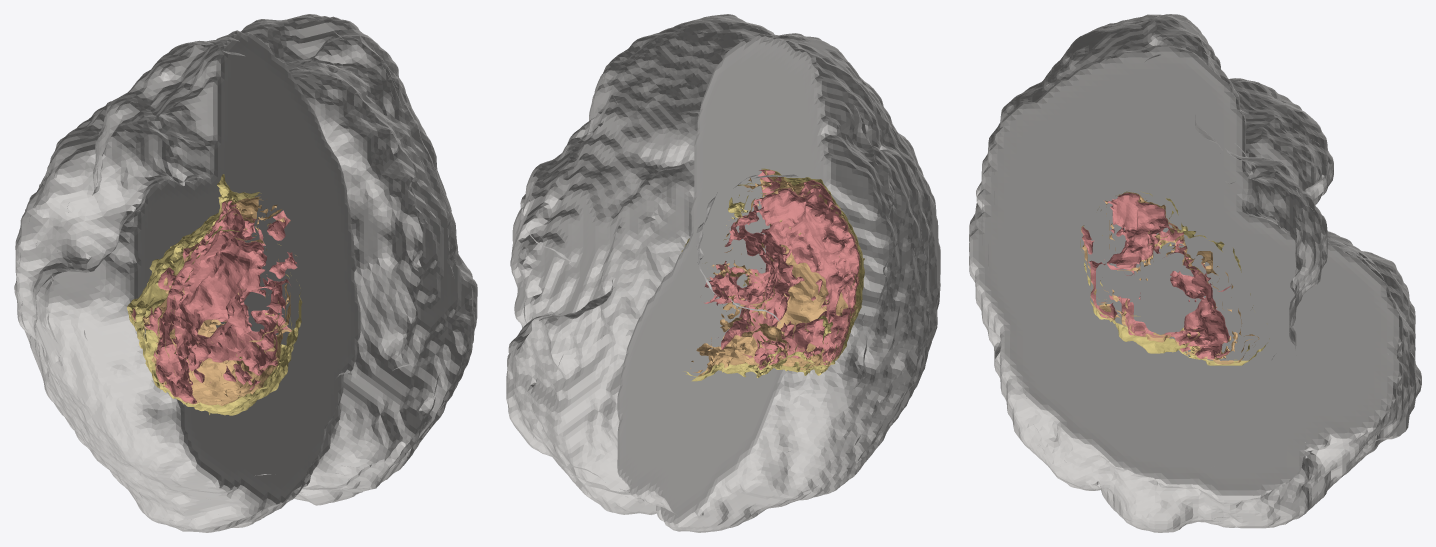
3 renders of one model, left to right at view 1: azimuth 30°, elevation 25°; view 2: azimuth 150°, elevation 25°; view 3: azimuth 270°, elevation 25°, orthographic. The views are drawn at different scales.
Visible parts, largest first — view 1: brain_left, brain_right, enhancing, edema, core; view 2: brain_left, brain_right, enhancing, core, edema; view 3: brain_right, brain_left, enhancing, core, edema.
Boxes of the visible parts, box(x1,y1,x2,y2) form: brain_left: box(14, 30, 360, 532); brain_right: box(240, 14, 477, 505); enhancing: box(131, 201, 297, 403); edema: box(127, 174, 302, 415); core: box(131, 196, 296, 406); brain_left: box(617, 33, 940, 532); brain_right: box(506, 14, 778, 521); enhancing: box(704, 170, 859, 369); core: box(690, 169, 860, 376); edema: box(681, 168, 864, 381); brain_right: box(969, 45, 1421, 532); brain_left: box(969, 14, 1415, 343); enhancing: box(1081, 193, 1230, 359); core: box(1081, 192, 1259, 364); edema: box(1080, 191, 1269, 365).
Size of the model in its own units: 134 by 164 by 144.
